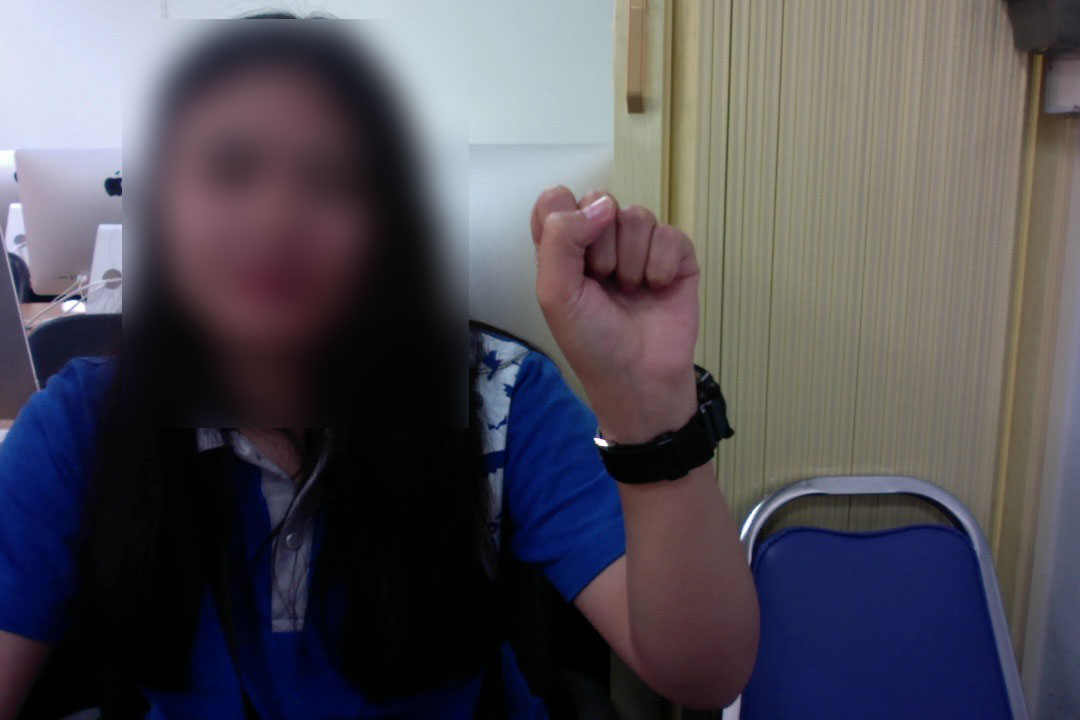sor: (525, 178, 707, 418)
